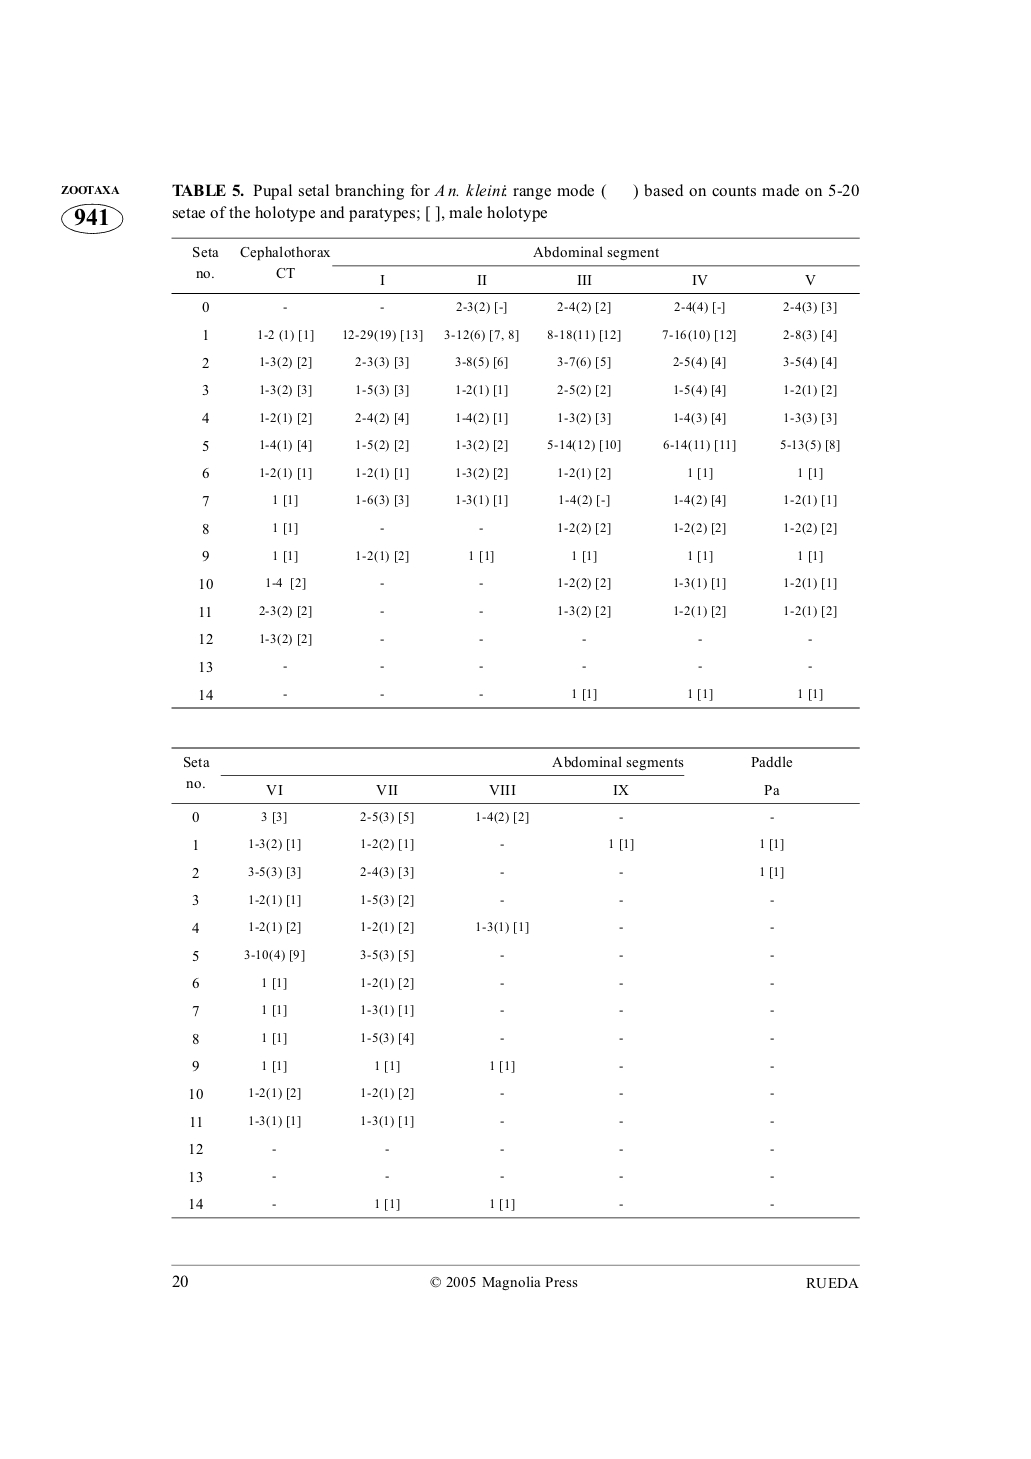Table: (171, 236, 859, 708), (171, 747, 859, 1218)
figure: (61, 186, 123, 233)
